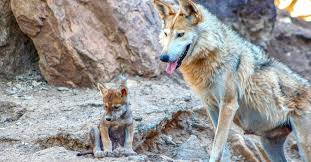Lobo: (146, 1, 304, 158), (74, 78, 139, 159)
